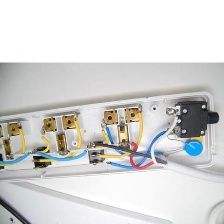three_eye_plug: (0, 87, 222, 185)
